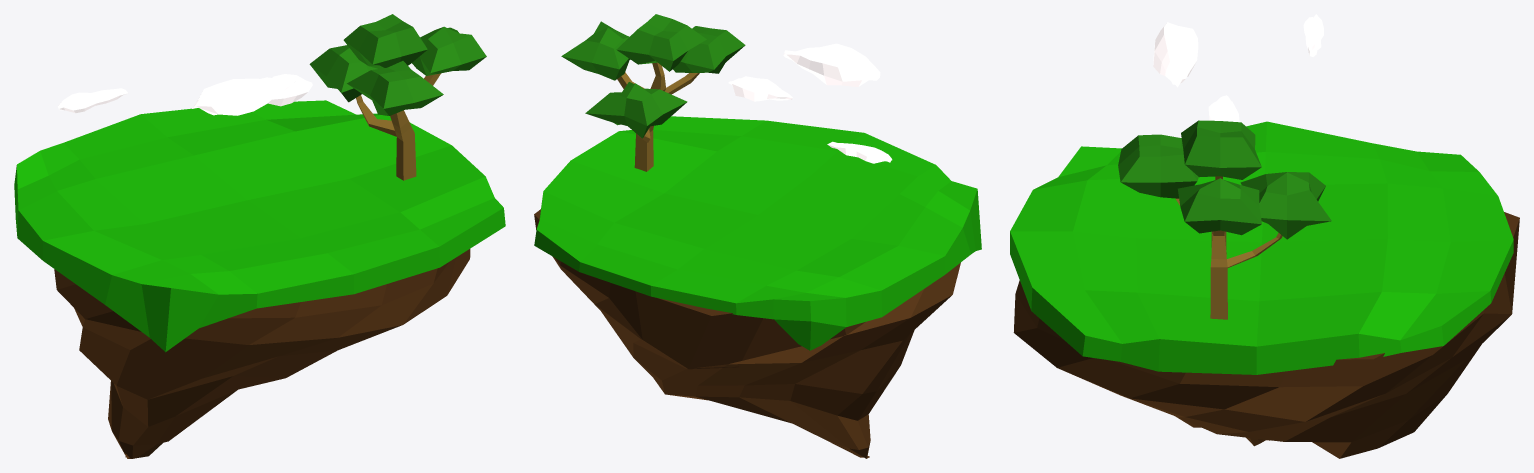
Rendered from island-stage.gltf.
3 views of the same model, side by side, from view 1: azimuth 30°, elevation 25°; view 2: azimuth 150°, elevation 25°; view 3: azimuth 270°, elevation 25° (orthographic). The views are drawn at different scales.
Parts seen in each view (by area): view 1: prato.001, isola, foglie, foglie.003, nuvola.002, foglie.001, albero, foglie.002, nuvola, nuvola.001; view 2: prato.001, isola, foglie.002, foglie.003, nuvola.002, foglie.001, foglie, albero, nuvola.001, nuvola; view 3: prato.001, isola, foglie.003, foglie, foglie.001, foglie.002, nuvola.002, albero, nuvola, nuvola.001.
Part boxes in pixels (left/top/right/bottom): prato.001: left=14, top=100, right=505, bottom=352; isola: left=54, top=249, right=470, bottom=458; foglie: left=347, top=61, right=443, bottom=115; foglie.003: left=343, top=14, right=427, bottom=68; nuvola.002: left=192, top=77, right=295, bottom=115; foglie.001: left=412, top=26, right=486, bottom=75; albero: left=356, top=73, right=440, bottom=180; foglie.002: left=309, top=45, right=377, bottom=102; nuvola: left=57, top=88, right=128, bottom=113; nuvola.001: left=267, top=74, right=312, bottom=106; prato.001: left=534, top=116, right=981, bottom=350; isola: left=534, top=209, right=960, bottom=458; foglie.002: left=585, top=82, right=687, bottom=138; foglie.003: left=616, top=14, right=706, bottom=71; nuvola.002: left=783, top=43, right=880, bottom=86; foglie.001: left=561, top=21, right=630, bottom=80; foglie: left=673, top=26, right=745, bottom=73; albero: left=617, top=62, right=699, bottom=171; nuvola.001: left=728, top=76, right=792, bottom=101; nuvola: left=827, top=141, right=892, bottom=163; prato.001: left=1010, top=121, right=1513, bottom=374; isola: left=1013, top=212, right=1519, bottom=458; foglie.003: left=1181, top=120, right=1261, bottom=179; foglie: left=1118, top=134, right=1198, bottom=198; foglie.001: left=1178, top=178, right=1261, bottom=235; foglie.002: left=1240, top=172, right=1331, bottom=239; nuvola.002: left=1153, top=22, right=1198, bottom=87; albero: left=1175, top=176, right=1282, bottom=319; nuvola: left=1303, top=14, right=1323, bottom=56; nuvola.001: left=1208, top=95, right=1239, bottom=122.
Size of the model in its own units: 25.18 by 22.86 by 23.64.
